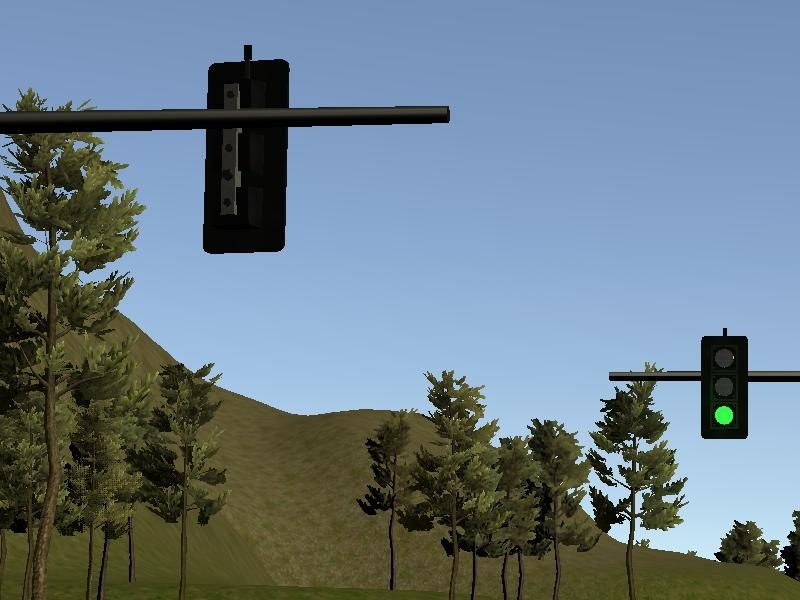GREEN: (701, 335, 747, 438)
